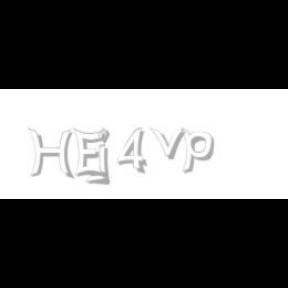4: (116, 128, 148, 174)
E: (74, 128, 106, 180)
H: (28, 128, 74, 180)
j: (96, 128, 124, 186)
p: (180, 128, 217, 174)
v: (149, 128, 189, 160)
